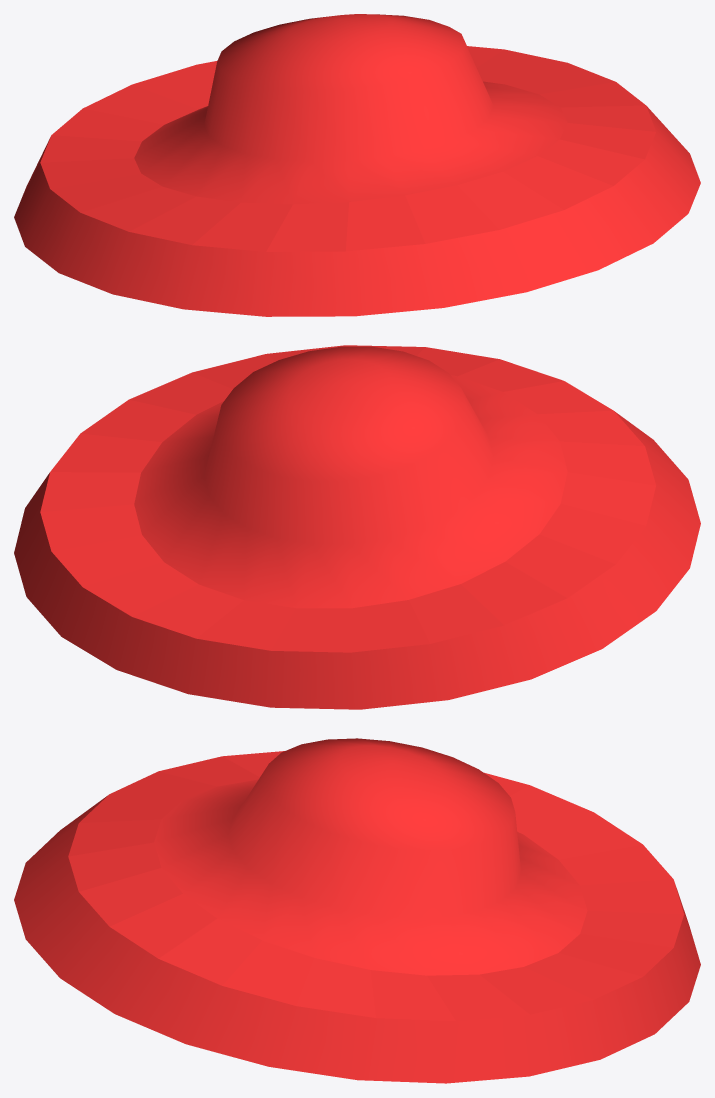
File: FancyHat.fbx
3 views of the same model, one above another, from view 1: azimuth 30°, elevation 25°; view 2: azimuth 150°, elevation 25°; view 3: azimuth 270°, elevation 25° (orthographic).
Visible parts, largest first — view 1: FancyHat; view 2: FancyHat; view 3: FancyHat.
Part boxes in pixels (<box>): FancyHat: <box>14,14,700,316</box>; FancyHat: <box>14,345,700,709</box>; FancyHat: <box>14,738,700,1083</box>.
Bounding box in the file's own units: 32.63 × 10.81 × 32.03.
